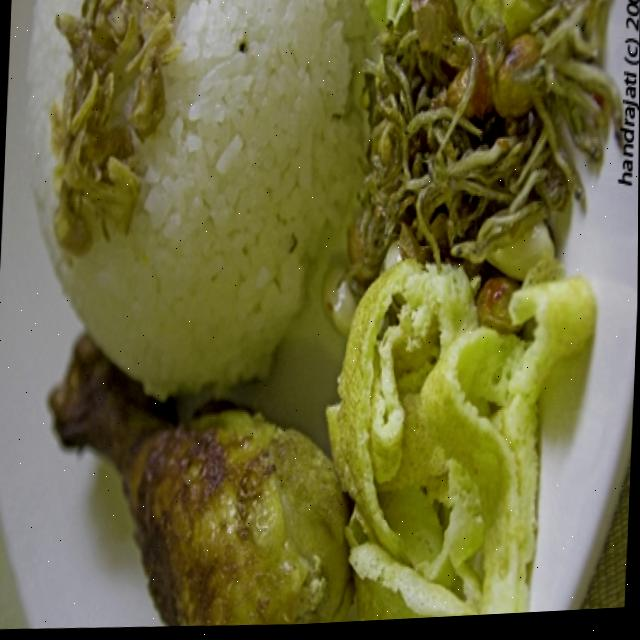米饭主食: (0, 0, 623, 640)
